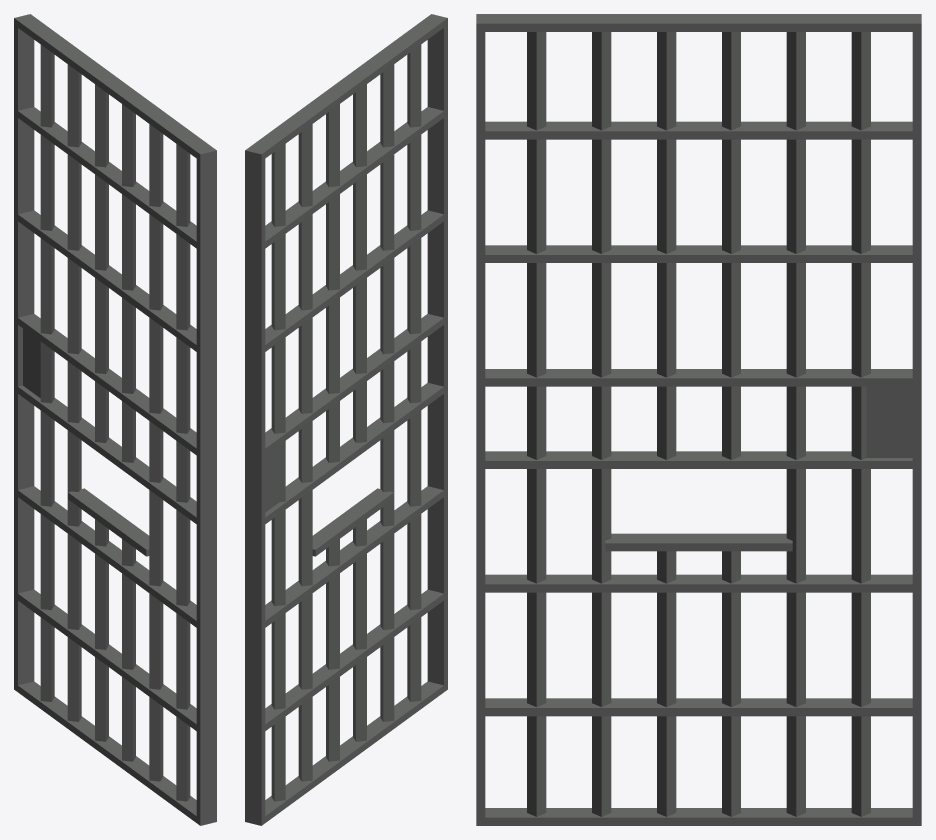
Rendered from SM_bars_01_door.glb.
3 views of the same model, side by side, from view 1: azimuth 30°, elevation 25°; view 2: azimuth 150°, elevation 25°; view 3: azimuth 270°, elevation 25° (orthographic). The views are drawn at different scales.
Parts seen in each view (by area): view 1: SM_bars_01_door; view 2: SM_bars_01_door; view 3: SM_bars_01_door.
Boxes of the visible parts, x1=… form: SM_bars_01_door: x1=14, y1=14, x2=216, y2=825; SM_bars_01_door: x1=245, y1=14, x2=447, y2=825; SM_bars_01_door: x1=476, y1=14, x2=921, y2=825.
Bounding box in the file's own units: 0.05 × 1.95 × 0.98.
Materials: 1 (1 with a texture image).
